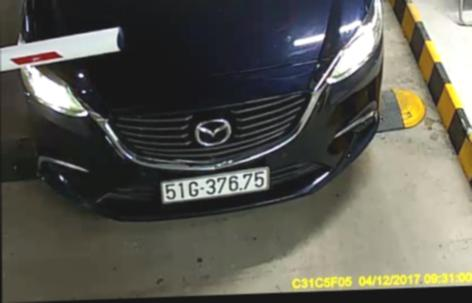License_Plate: (156, 169, 274, 201)
